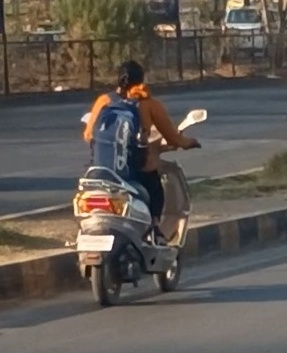BikeWithRider: (60, 55, 211, 310)
NoHelmet: (110, 56, 150, 100)
